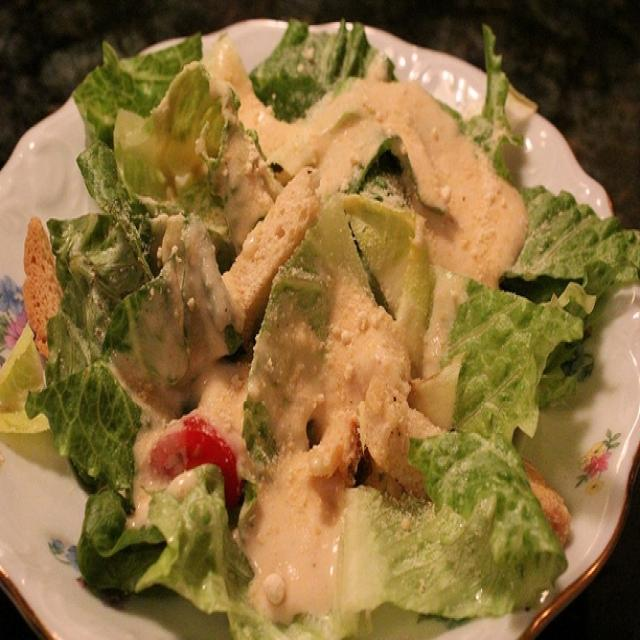蔬菜料理: (9, 27, 626, 621)
